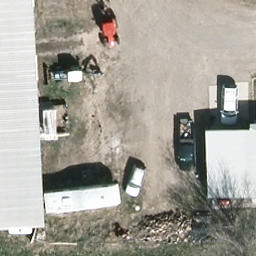car: (219, 84, 239, 126), (123, 165, 147, 198)
pickup: (179, 119, 196, 170)
tractor: (51, 65, 83, 89), (97, 17, 121, 48)
